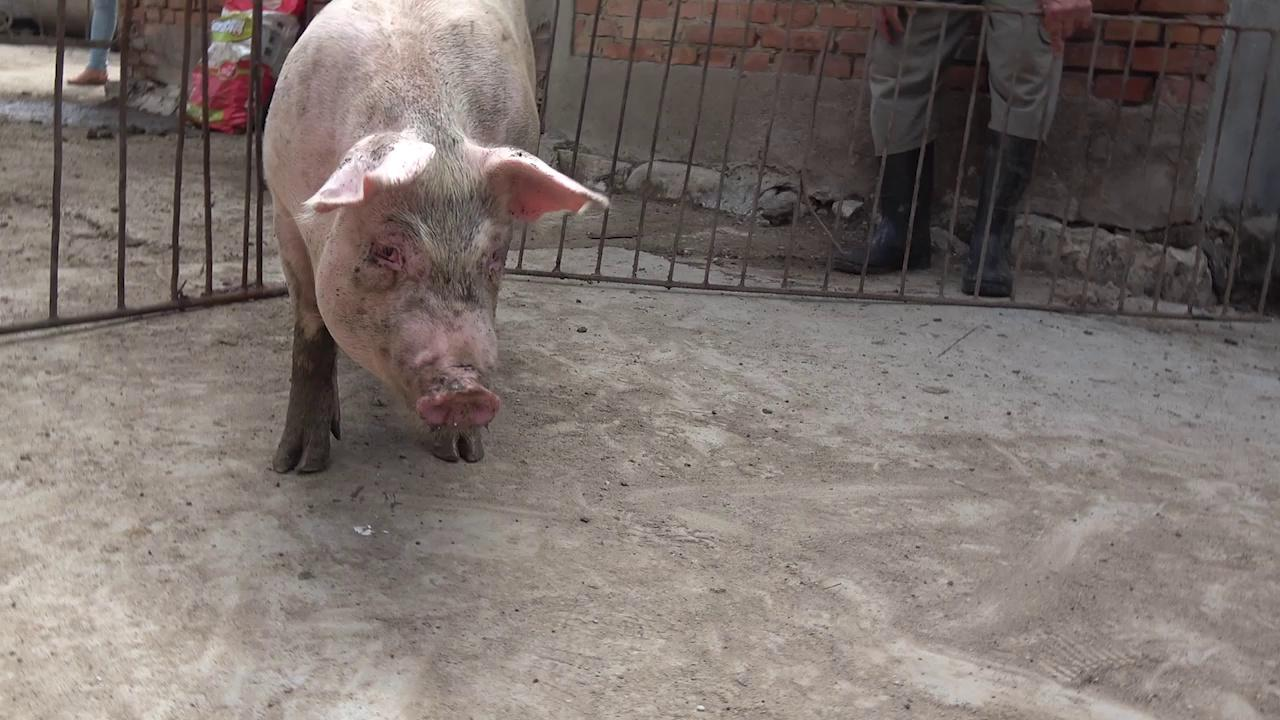Face: (295, 127, 619, 449)
